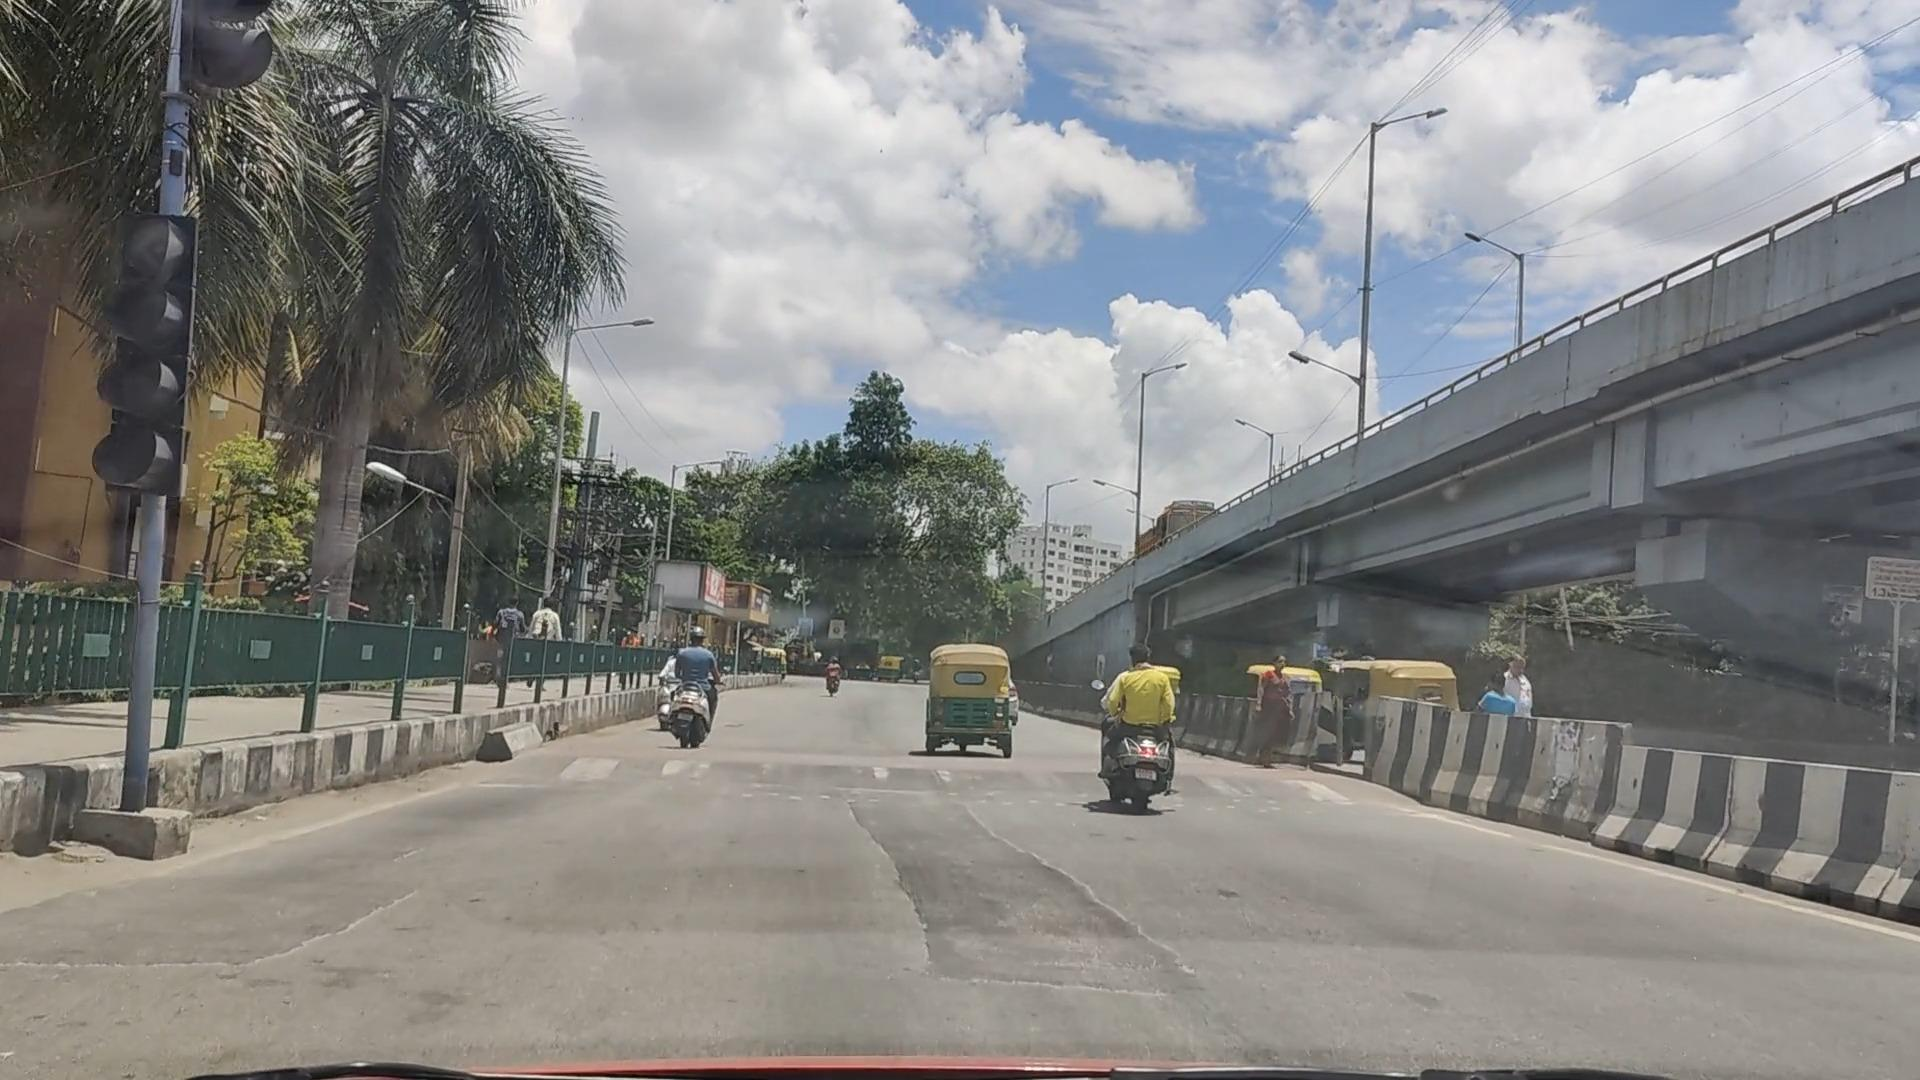LMV: (1108, 646, 1186, 829), (932, 644, 1007, 752), (675, 633, 710, 740)
SpeedBump: (551, 748, 1096, 788)
